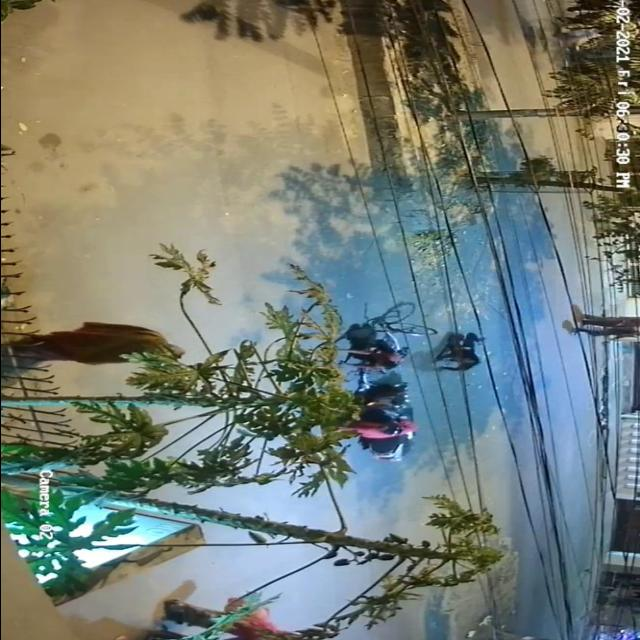accident: (329, 296, 497, 464)
